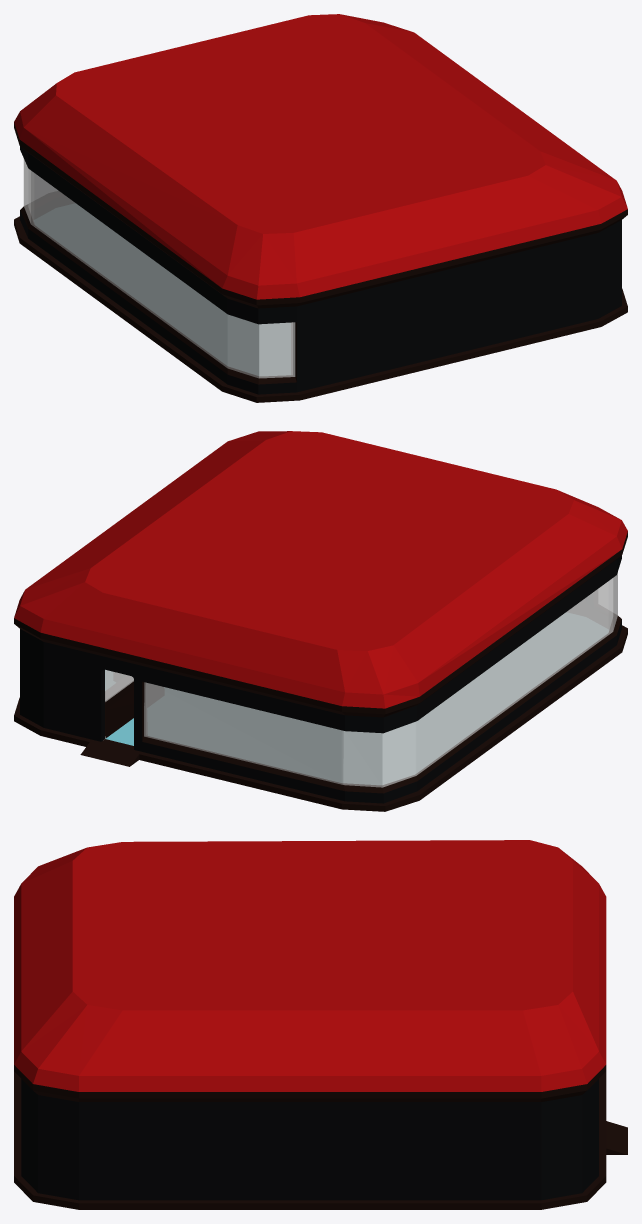
File: basic_shop.fbx
3 views of the same model, one above another, from view 1: azimuth 30°, elevation 25°; view 2: azimuth 150°, elevation 25°; view 3: azimuth 270°, elevation 25° (orthographic). The views are drawn at different scales.
Visible parts, largest first — view 1: shp_0; view 2: shp_0; view 3: shp_0.
Boxes of the visible parts, bbox=[...] form: shp_0: bbox=[14, 14, 627, 402]; shp_0: bbox=[14, 431, 627, 811]; shp_0: bbox=[14, 840, 627, 1209].
Size of the model in its own units: 4672 by 1608 by 5440.
